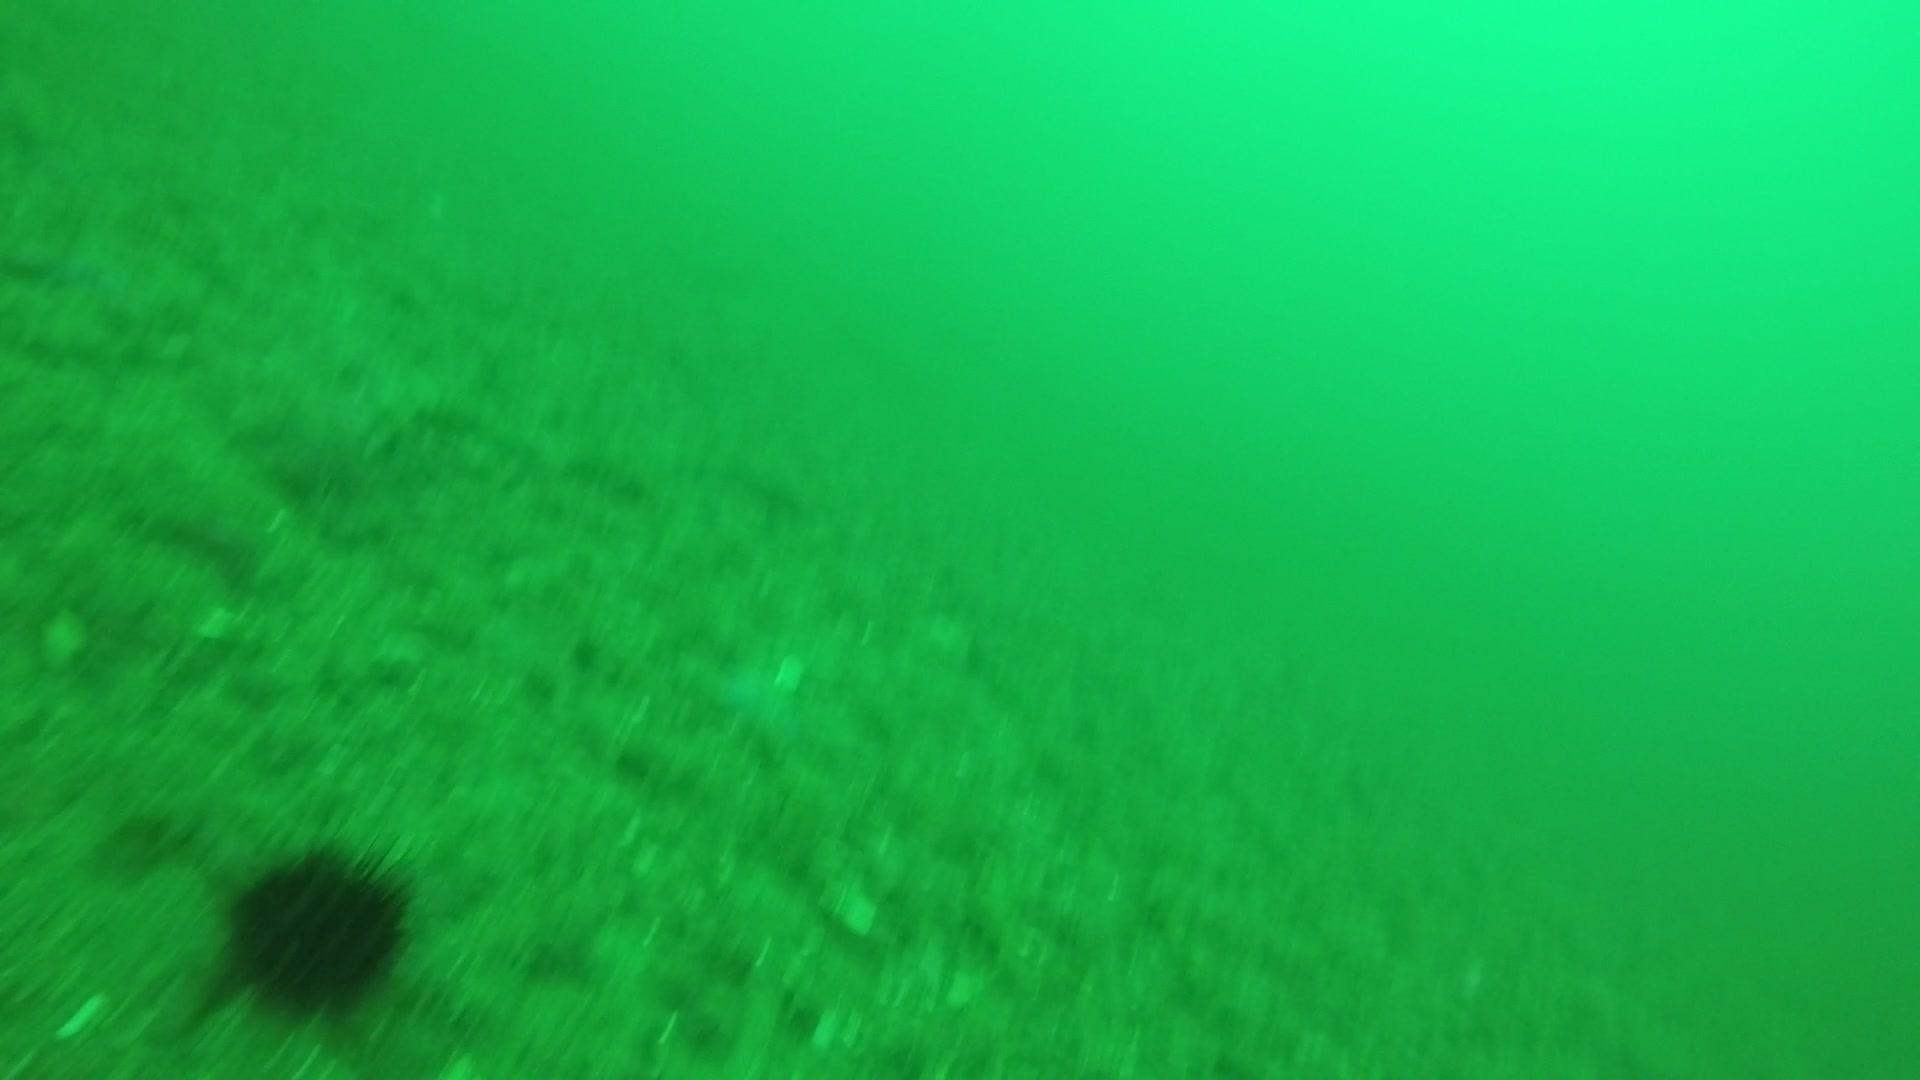echinus: (214, 836, 419, 1021)
starfish: (704, 644, 822, 764)
